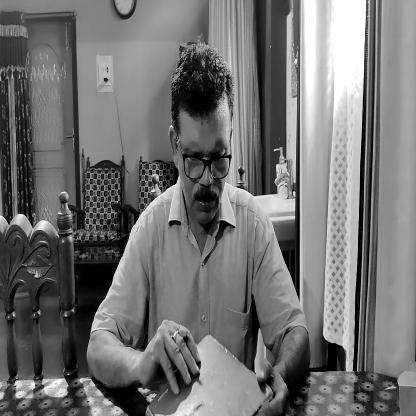Normal: (168, 45, 232, 227)
